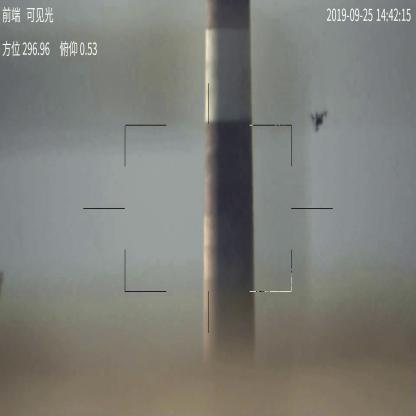uav: (310, 108, 330, 134)
